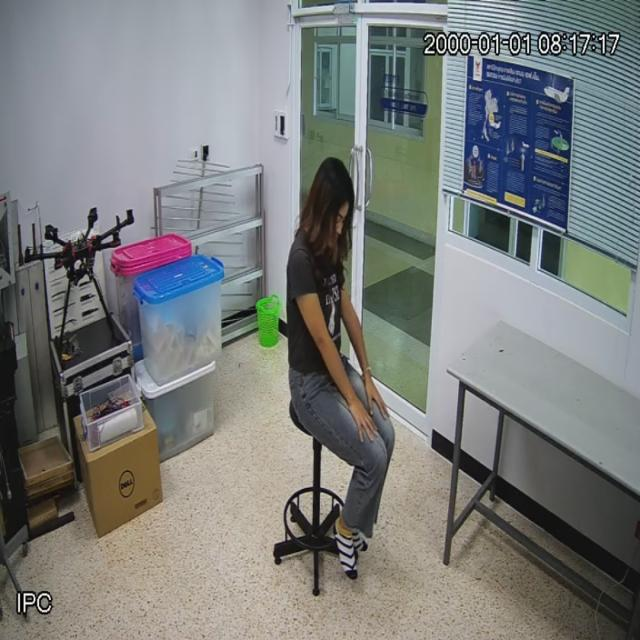normal: (288, 160, 396, 578)
